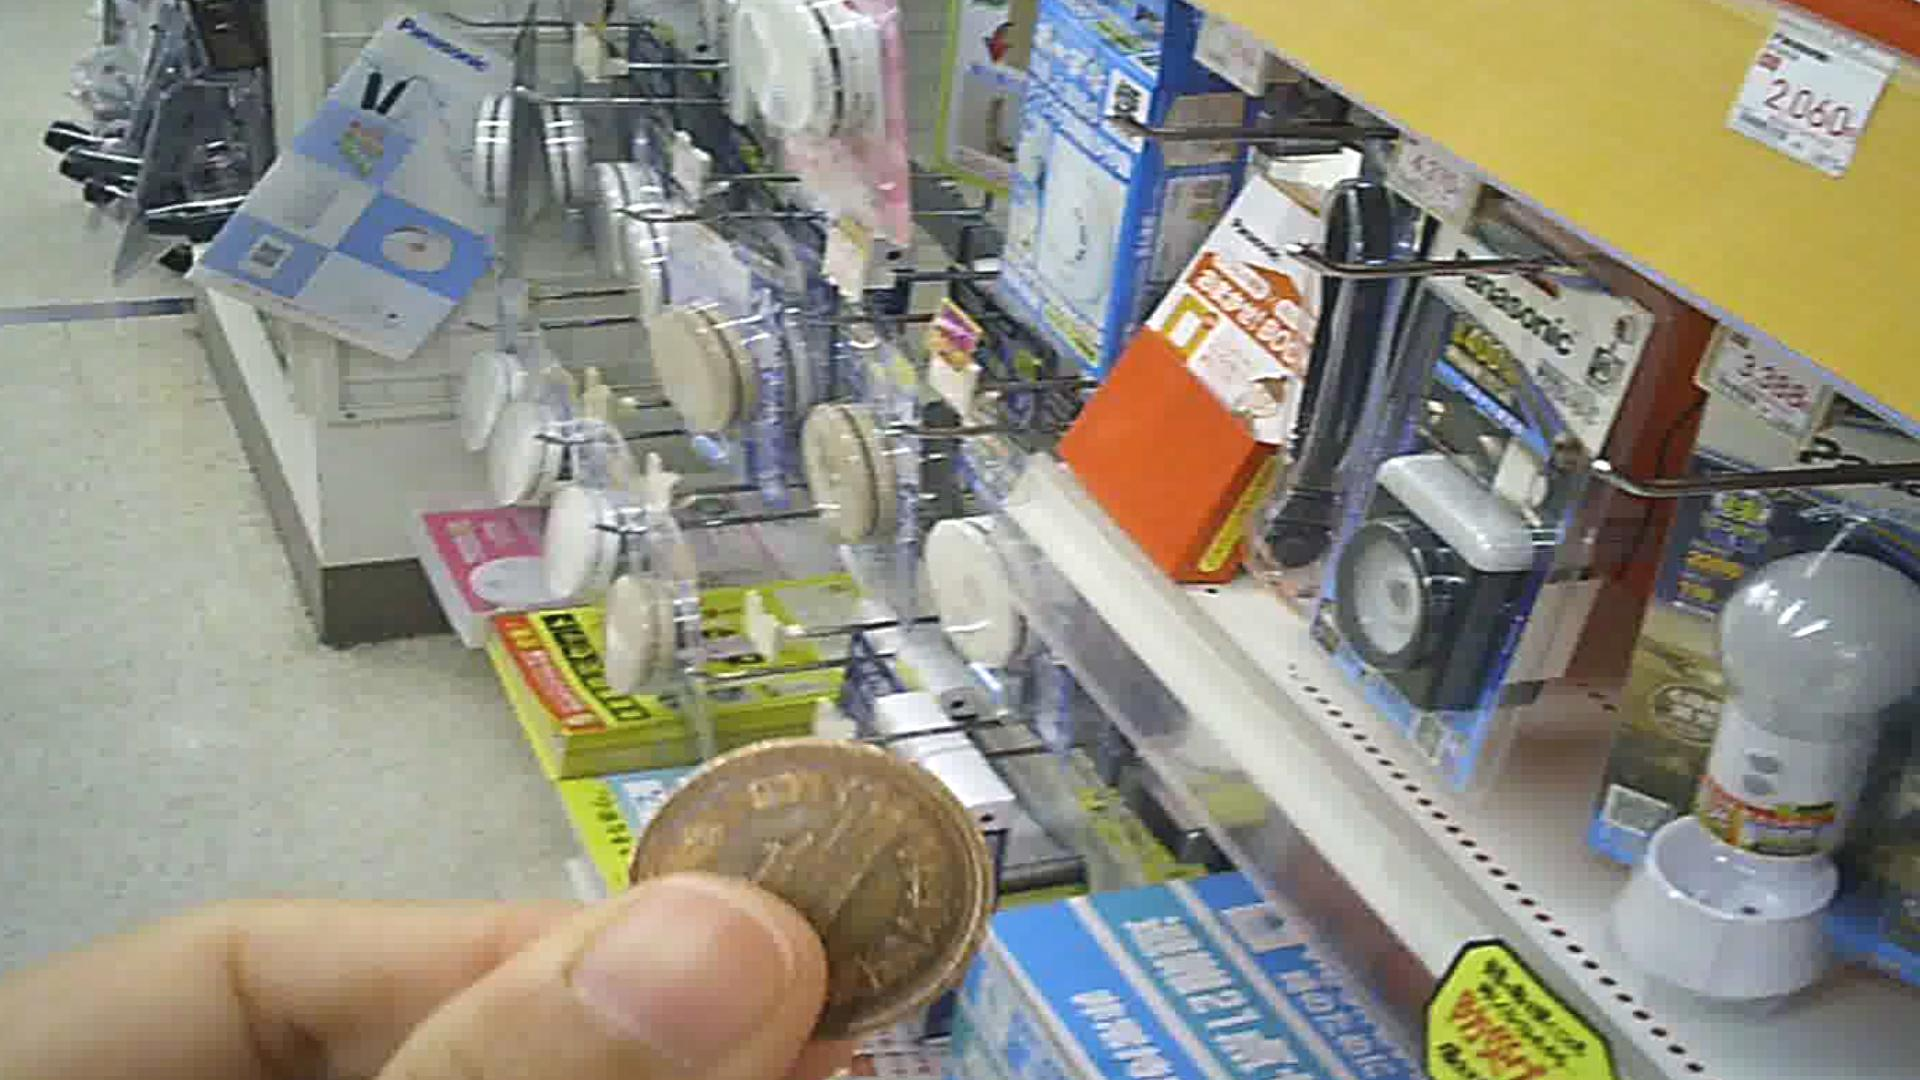10 Yen: (597, 741, 978, 1033)
